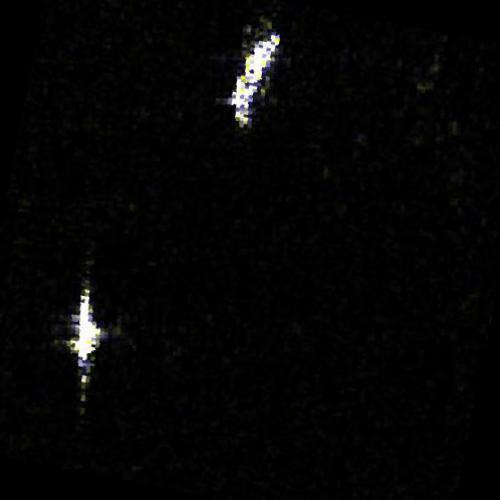ship: (232, 34, 281, 127), (72, 286, 104, 387)
